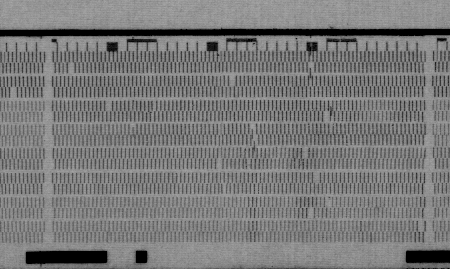Broken hole: (415, 219, 428, 234), (65, 63, 79, 75), (104, 99, 115, 113), (312, 171, 322, 186), (323, 197, 335, 209), (226, 74, 238, 86), (305, 207, 316, 220), (301, 148, 311, 161), (7, 88, 20, 98), (322, 111, 333, 122)
Oblique printing: (247, 122, 260, 149), (307, 64, 317, 79), (128, 124, 137, 139), (218, 182, 228, 195), (216, 159, 225, 172)
